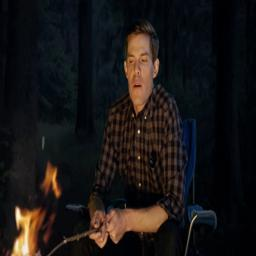fire: (8, 163, 59, 256)
